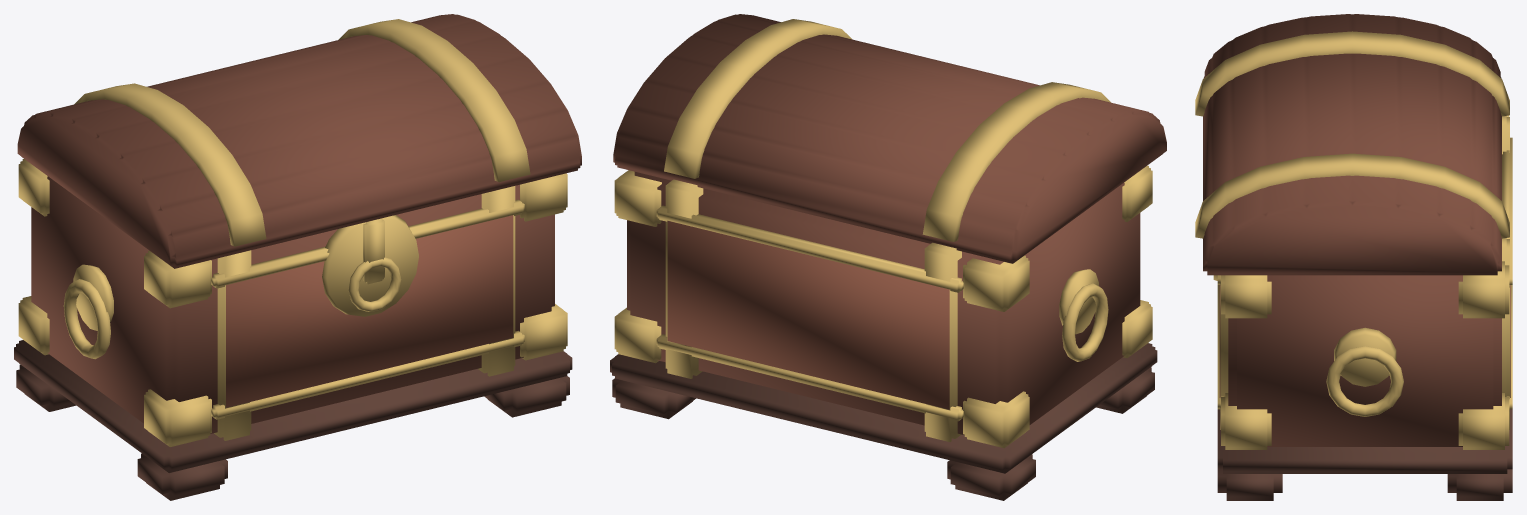
The model's file is RosewoodChest.glb.
The picture shows the model from 3 angles, left to right: view 1: azimuth 30°, elevation 25°; view 2: azimuth 150°, elevation 25°; view 3: azimuth 270°, elevation 25°; orthographic projection. The views are drawn at different scales.
Visible parts, largest first — view 1: VaultedLid, ChestBody, FrontPanel_-1, BaseApron, LidBand_0.40, LidBand_-0.40, LockPlate, GoldFrameBot_-1, GoldFrameTop_-1, Corner_-1_-1_-0.36, Corner_-1_-1_0.36, Strap_-0.40 (+12 smaller); view 2: VaultedLid, ChestBody, FrontPanel_1, BaseApron, LidBand_-0.40, LidBand_0.40, GoldFrameTop_1, GoldFrameBot_1, Strap_-0.40, Corner_-1_1_0.36, Corner_-1_1_-0.36, Foot_-1_1 (+9 smaller); view 3: VaultedLid, ChestBody, BaseApron, LidBand_-0.40, LidBand_0.40, SideRing_1, Corner_1_1_0.36, Corner_1_1_-0.36, Corner_1_-1_0.36, Corner_1_-1_-0.36, SideMount_1, Strap_0.40 (+5 smaller).
Part boxes in pixels (x1,y1,x2,y2): VaultedLid: (17,14,581,268); ChestBody: (31,176,554,433); FrontPanel_-1: (226,215,513,407); BaseApron: (14,340,572,472); LidBand_0.40: (338,19,530,182); LidBand_-0.40: (74,83,266,246); LockPlate: (322,215,418,316); GoldFrameBot_-1: (211,330,524,419); GoldFrameTop_-1: (211,199,524,288); Corner_-1_-1_-0.36: (144,389,211,446); Corner_-1_-1_0.36: (144,250,211,308); Strap_-0.40: (214,250,251,440); VaultedLid: (613,14,1166,263); ChestBody: (627,172,1140,435); FrontPanel_1: (667,221,949,409); BaseApron: (610,343,1157,473); LidBand_-0.40: (922,82,1110,241); LidBand_0.40: (664,19,852,178); GoldFrameTop_1: (656,205,963,292); GoldFrameBot_1: (656,334,963,421); Strap_-0.40: (924,242,961,441); Corner_-1_1_0.36: (963,255,1029,311); Corner_-1_1_-0.36: (963,391,1029,448); Foot_-1_1: (947,454,1035,500); VaultedLid: (1203,14,1501,275); ChestBody: (1228,275,1501,446); BaseApron: (1217,409,1512,473); LidBand_-0.40: (1195,31,1509,116); LidBand_0.40: (1195,153,1509,238); SideRing_1: (1326,346,1403,416); Corner_1_1_0.36: (1458,261,1509,318); Corner_1_1_-0.36: (1458,393,1509,449); Corner_1_-1_0.36: (1221,275,1271,318); Corner_1_-1_-0.36: (1221,393,1271,449); SideMount_1: (1334,327,1396,386); Strap_0.40: (1220,238,1509,429).
Bounding box in the file's own units: 1.29 × 0.952 × 0.882.
